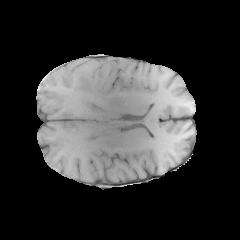glioma: (72, 70, 106, 100)
